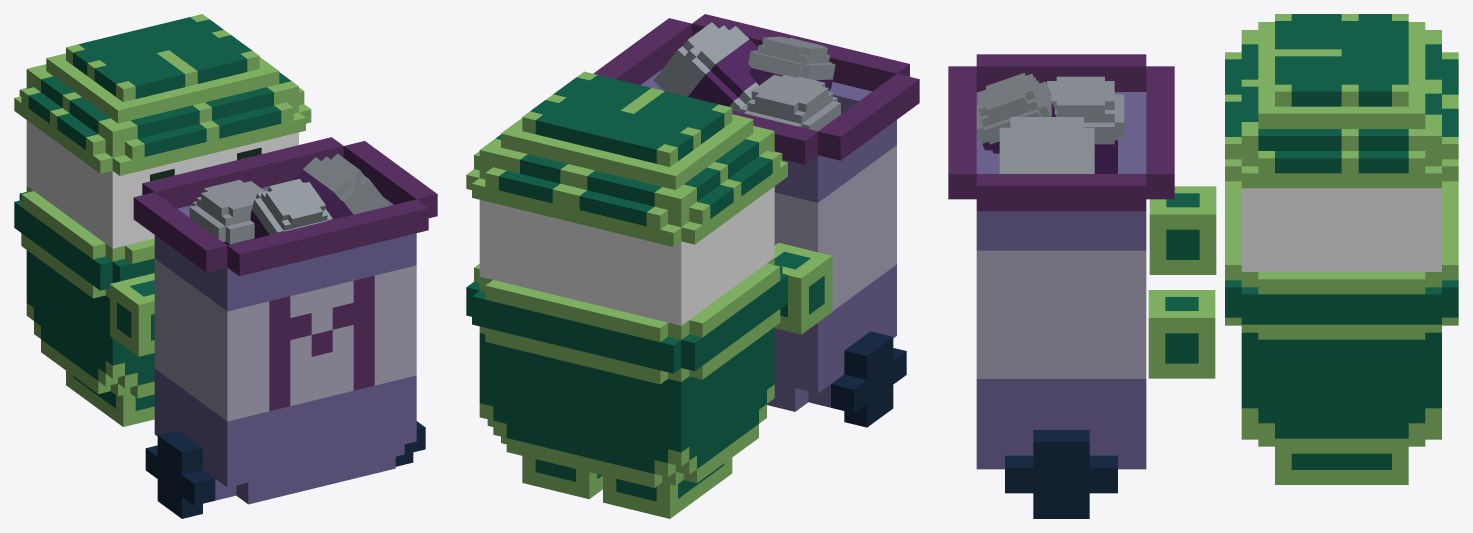
File: p2MetConDizzy.gltf
3 renders of one model, left to right at view 1: azimuth 30°, elevation 25°; view 2: azimuth 150°, elevation 25°; view 3: azimuth 270°, elevation 25°, orthographic. The views are drawn at different scales.
Visible parts, largest first — view 1: Yup2Zup.001; view 2: Yup2Zup.001; view 3: Yup2Zup.001.
Part boxes in pixels (<box>): Yup2Zup.001: <box>14,14,437,518</box>; Yup2Zup.001: <box>466,14,919,518</box>; Yup2Zup.001: <box>948,14,1458,518</box>.
Size of the model in its own units: 1.92 by 2.64 by 3.06.
Materials: 7 (7 with a texture image).
